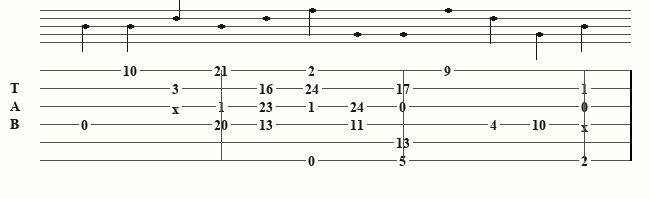0: (81, 117, 92, 131), (308, 153, 319, 167), (399, 99, 410, 113), (581, 99, 592, 113)
1: (218, 99, 229, 113), (308, 99, 319, 113), (581, 81, 592, 95)
10: (123, 63, 141, 77), (532, 117, 550, 131)
11: (350, 117, 368, 131)
13: (259, 117, 277, 131), (396, 135, 414, 149)
16: (259, 81, 277, 95)
17: (396, 81, 414, 95)
2: (308, 63, 319, 77), (581, 153, 592, 167)
20: (214, 117, 232, 131)
21: (214, 63, 232, 77)
23: (259, 99, 277, 113)
24: (305, 81, 323, 95), (350, 99, 368, 113)
3: (172, 81, 183, 95)
4: (490, 117, 501, 131)
5: (399, 153, 410, 167)
9: (444, 63, 455, 77)
x: (172, 101, 183, 112), (581, 119, 592, 130)
